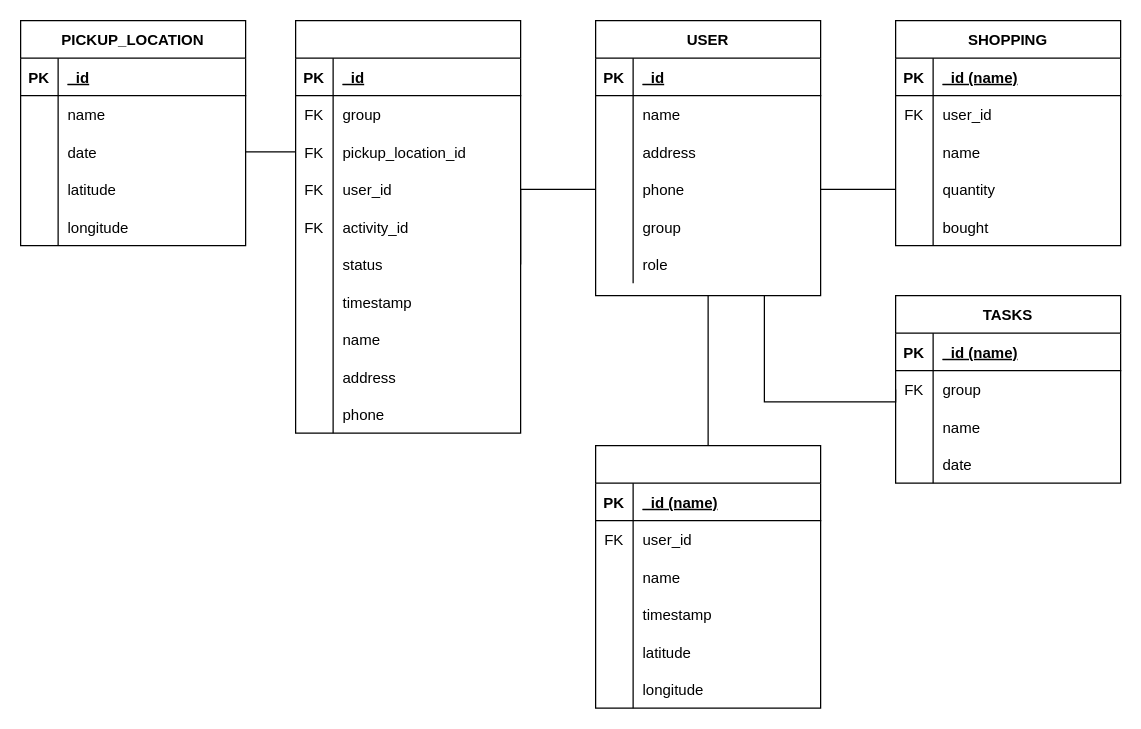
The diagram is 1141 pixels wide and 729 high, and some of its shapes have lost their labels. Each missing label, with the box of its shape:
Activity: (594, 444, 821, 708)
KID: (294, 19, 521, 433)
